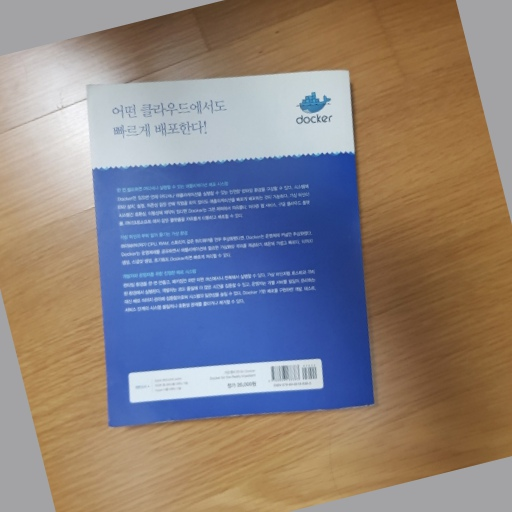Paper_0: (81, 67, 390, 437)
